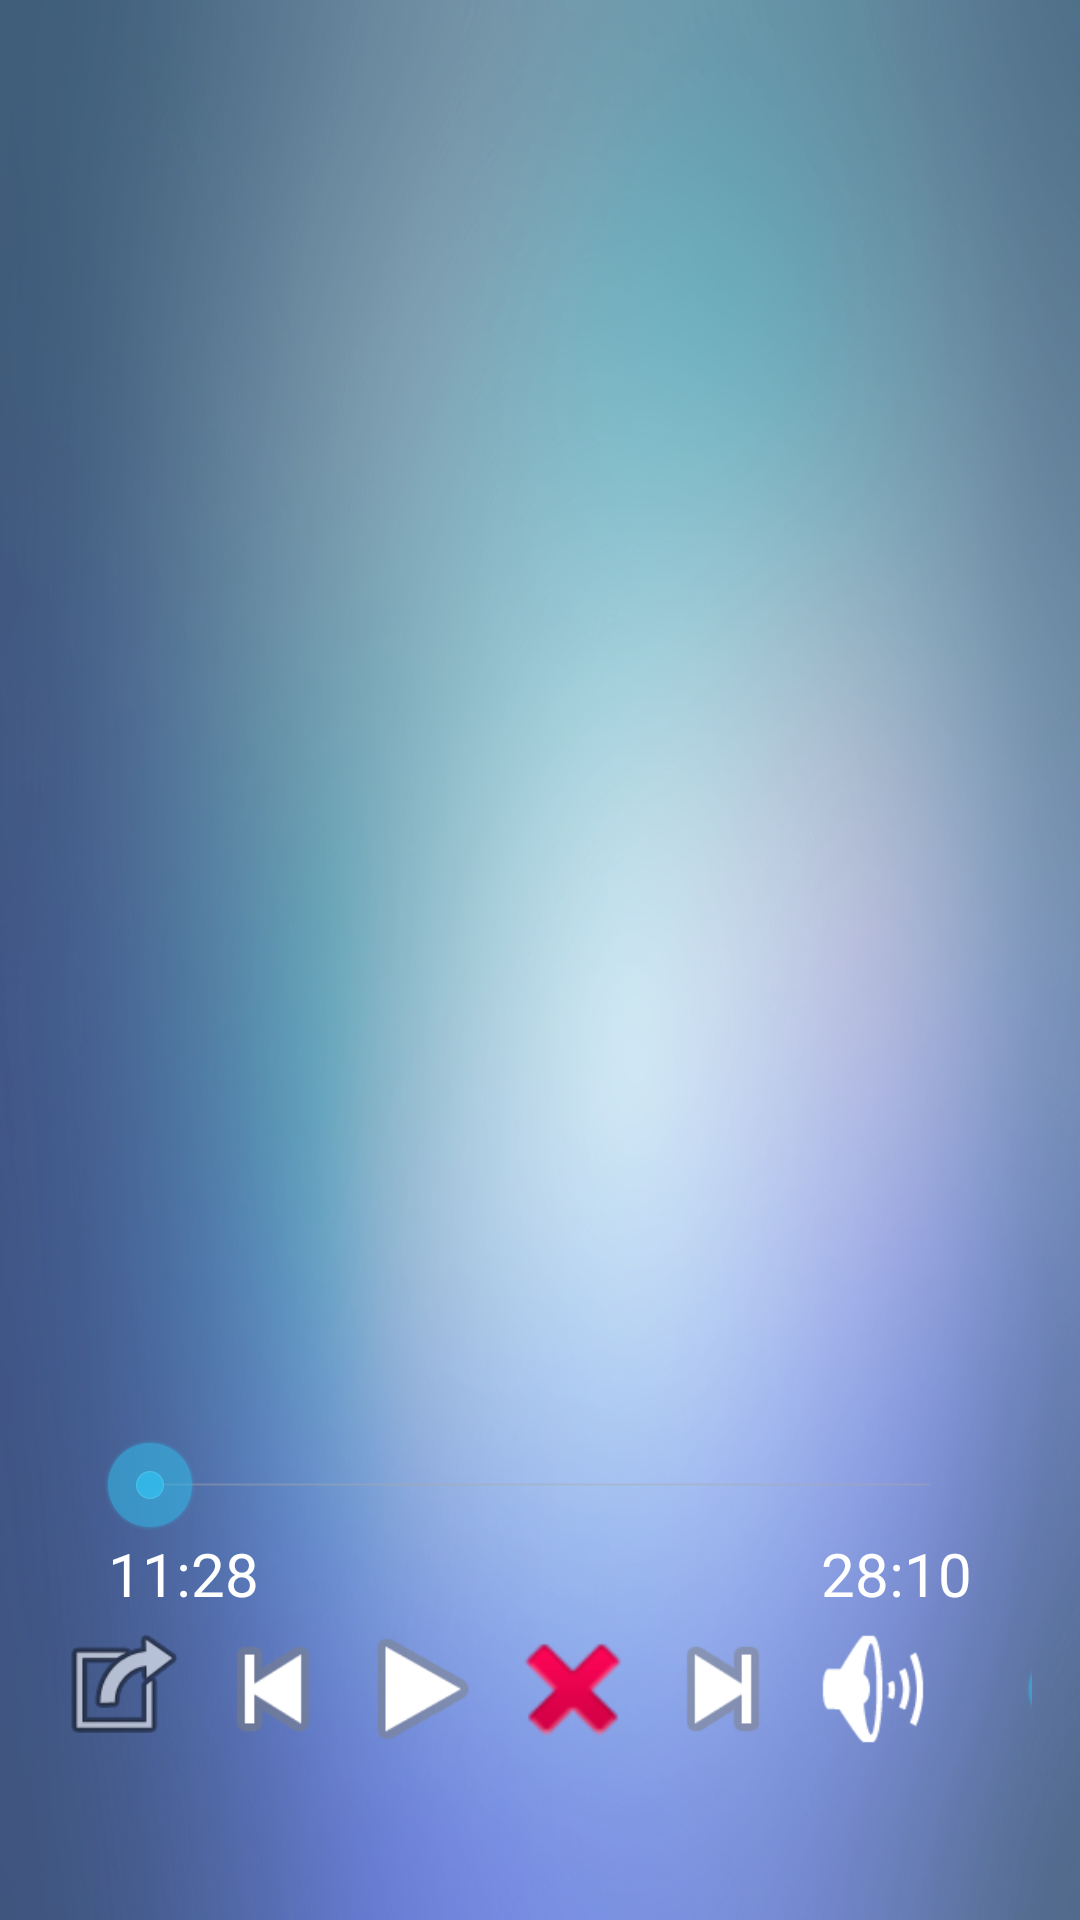

Icons on this 1080×1920 Android screen, each with the point to tap as [x,y]:
delete: [573,1690]
lock silent mode off: [873,1689]
next: [723,1689]
play: [423,1689]
previous: [273,1689]
